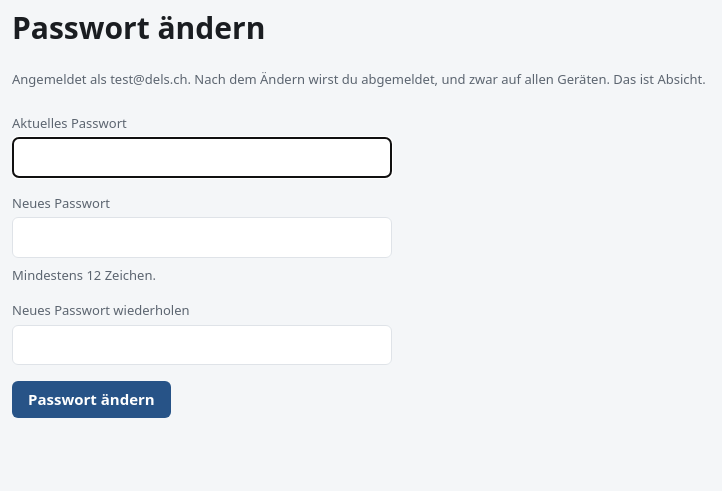
Scenario: Eingabepruefung im Browser › schickt gar nicht erst ab, wenn die Wiederholung abweicht
The image size is (722, 491).
Type "altes-passwort-lang" into the password field labelled "Aktuelles Passwort". click: coordinates (202, 157)
box: x1=12 y1=137 x2=392 y2=178
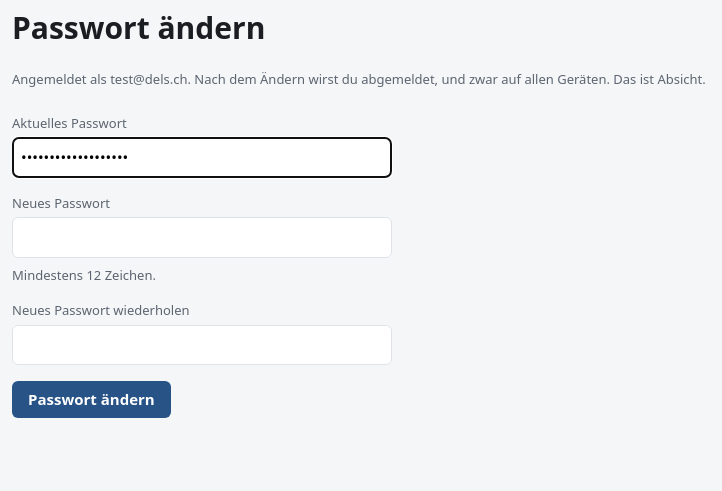
Type "neues-passwort-lang" into the password field labelled "Neues Passwort". click: coordinates (202, 237)
box: x1=12 y1=217 x2=392 y2=258
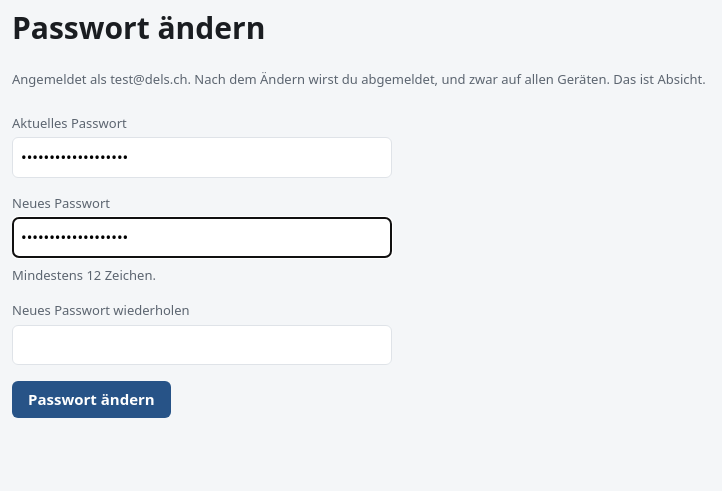
Type "etwas-ganz-anderes" into the password field labelled "Neues Passwort wiederholen". click: coordinates (202, 345)
box: x1=12 y1=325 x2=392 y2=365
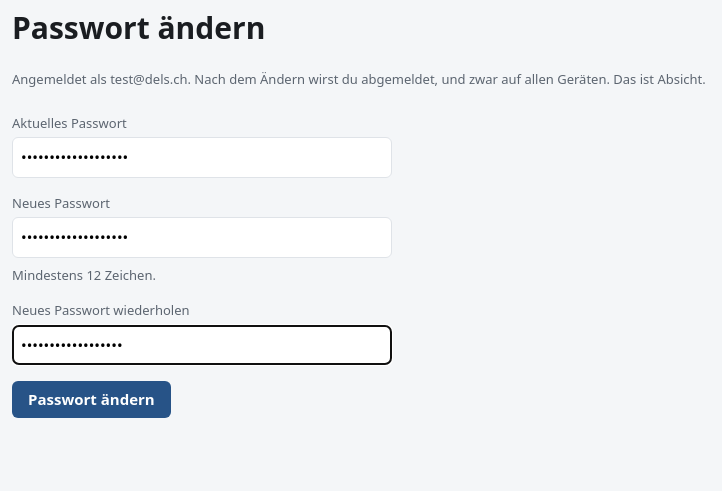
Click the button "Passwort ändern". click: coordinates (91, 399)
box: x1=12 y1=381 x2=171 y2=418
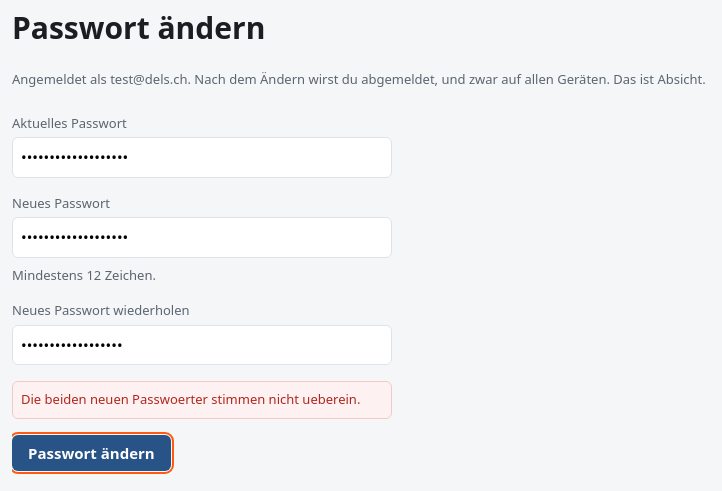
Expected: the text "Die beiden neuen Passwoerter stimmen nicht ueberein." is shown, x1=12 y1=381 x2=392 y2=419
